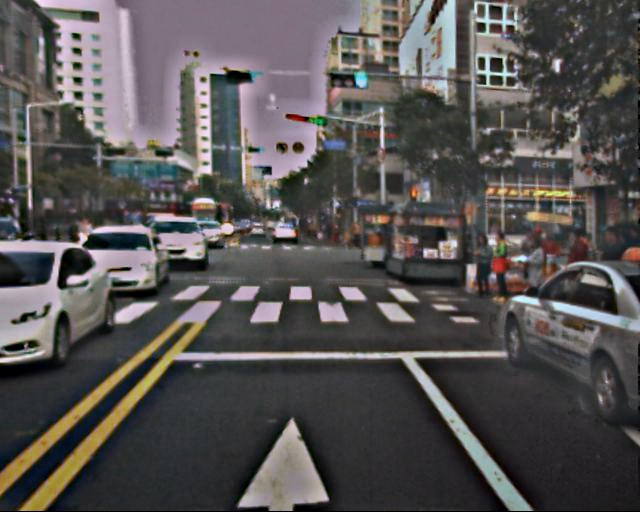person: (591, 228, 631, 315), (559, 230, 594, 307), (520, 239, 552, 316), (468, 234, 498, 304), (486, 233, 515, 303)
